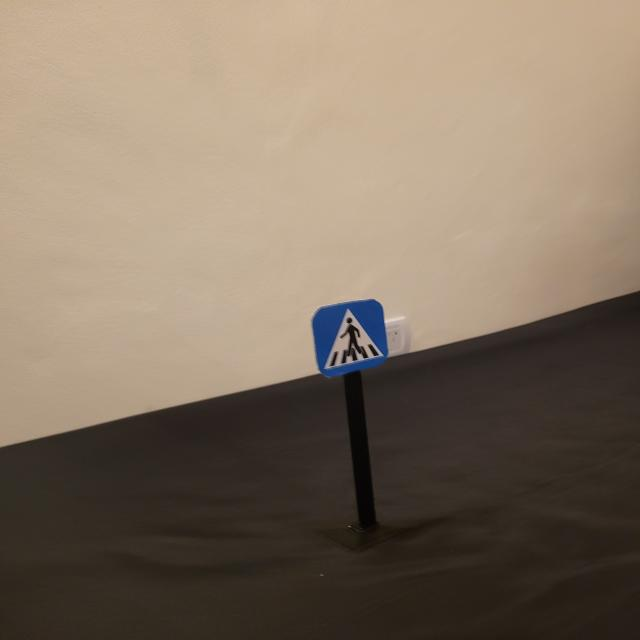crosswalk: (309, 300, 388, 382)
